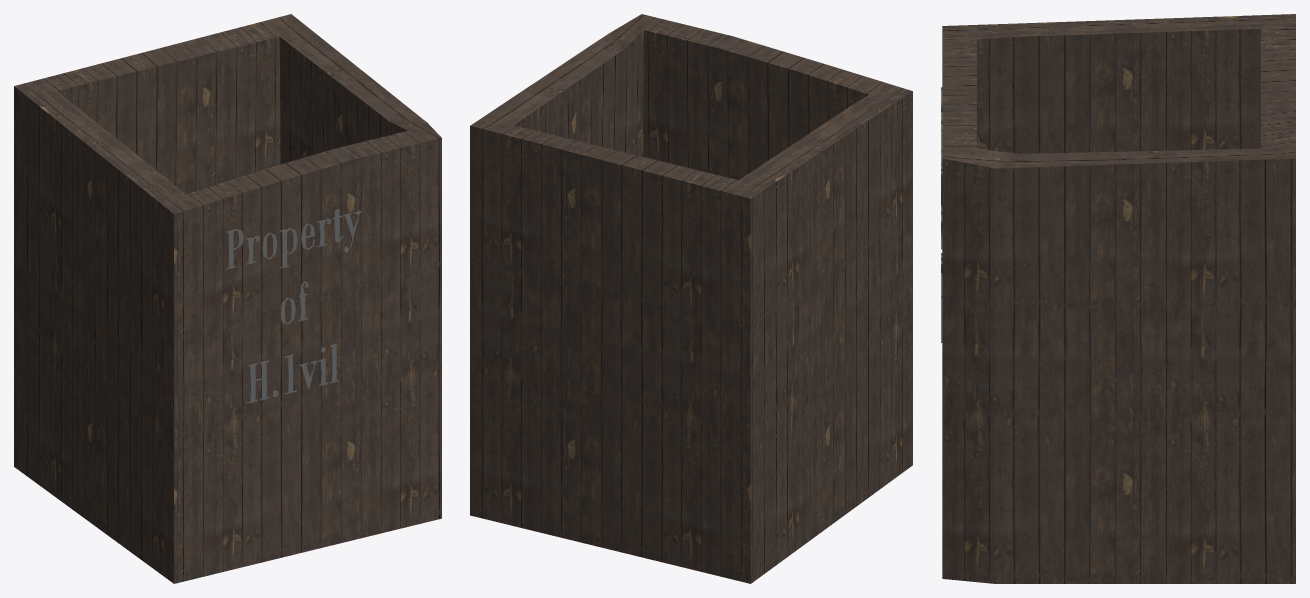
The model's file is openBox.glb.
3 renders of one model, left to right at view 1: azimuth 30°, elevation 25°; view 2: azimuth 150°, elevation 25°; view 3: azimuth 270°, elevation 25°, orthographic. The views are drawn at different scales.
Visible parts, largest first — view 1: Cube; view 2: Cube; view 3: Cube.
Boxes of the visible parts, x1,y1,x2,y2 form: Cube: (14,14,441,583); Cube: (470,14,912,583); Cube: (941,14,1295,583).
Size of the model in its own units: 2.36 by 3.14 by 2.37.
Materials: 2 (1 with a texture image).
